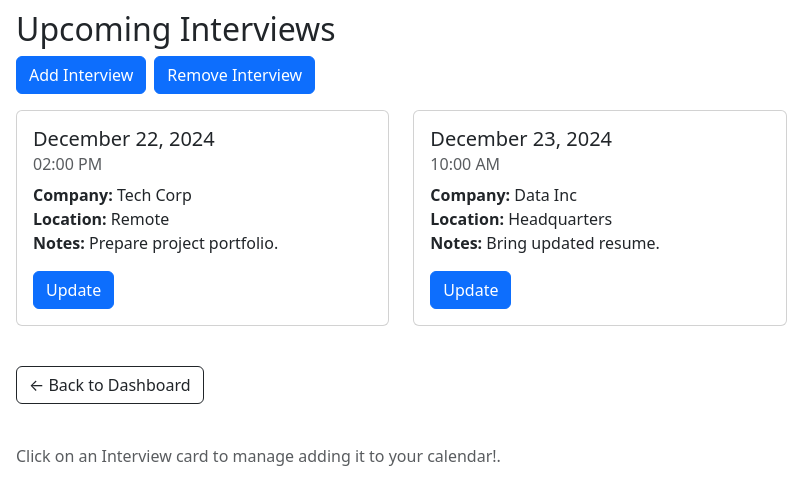
Test: InterviewList Component › toggles delete mode and updates button text
Step 1. Click the button "Remove Interview" → (235, 75), box x1=154 y1=56 x2=315 y2=94
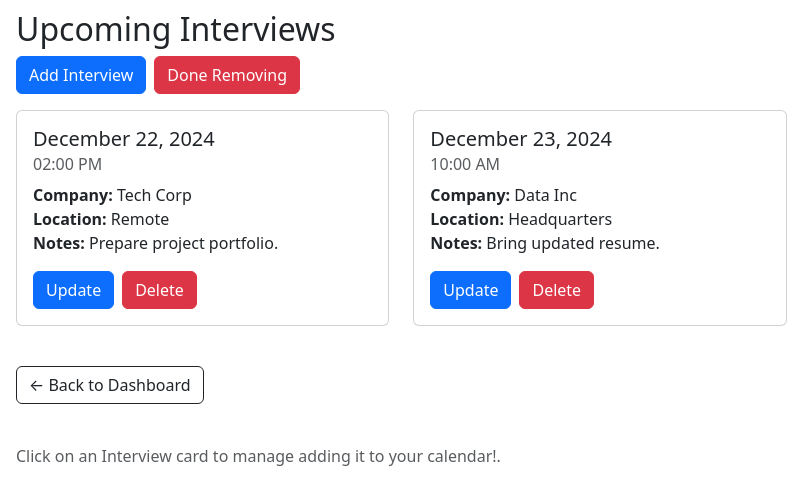
Check: the button "Remove Interview" reads "Done Removing"
Step 2. Click the button "Remove Interview" → (227, 75), box x1=154 y1=56 x2=300 y2=94
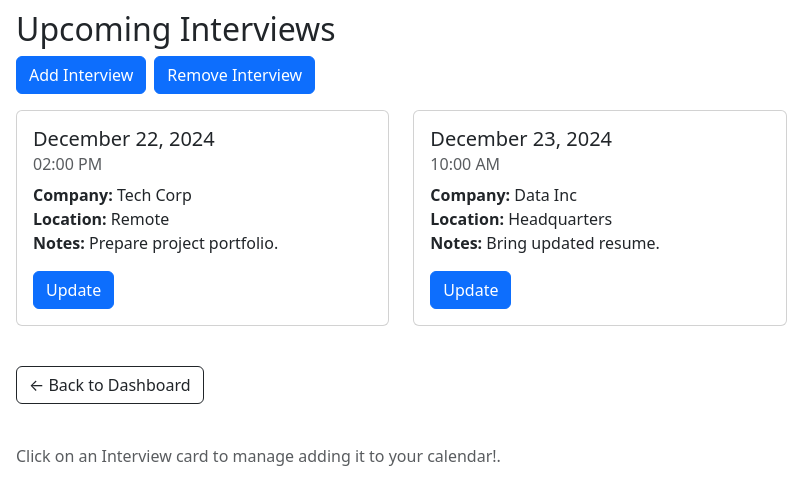
Check: the button "Remove Interview" is shown, box x1=154 y1=56 x2=315 y2=94
